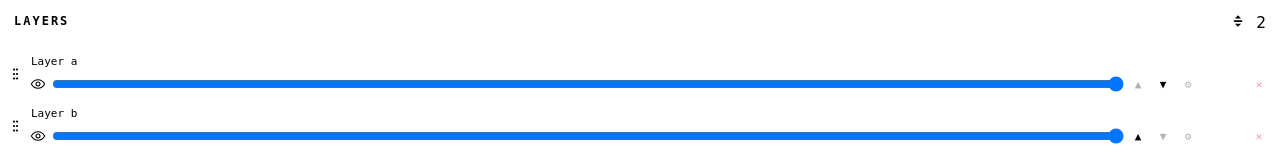
Test: ending it › ends of itself when fewer than two layers are left
What coordinates should you click on to do the following:
click the button with class "lm-flip"
I would click on:
 (1238, 21)
Its box is [1226,10,1250,32].
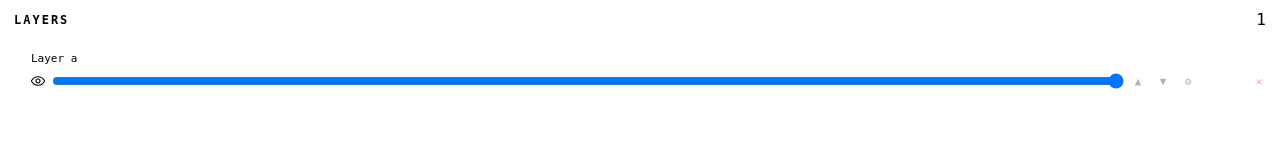
Check: the button with class "lm-flip" is gone
